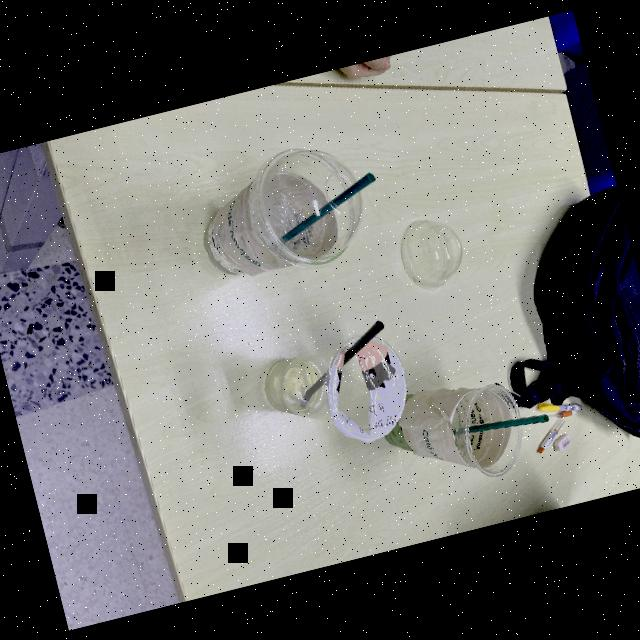plastic_cup: (190, 144, 361, 298), (243, 330, 420, 460), (370, 367, 528, 489)
plastic_cup_lid: (246, 133, 376, 277), (391, 210, 475, 295)
straw: (296, 318, 385, 407), (277, 170, 378, 246), (452, 413, 551, 436)
